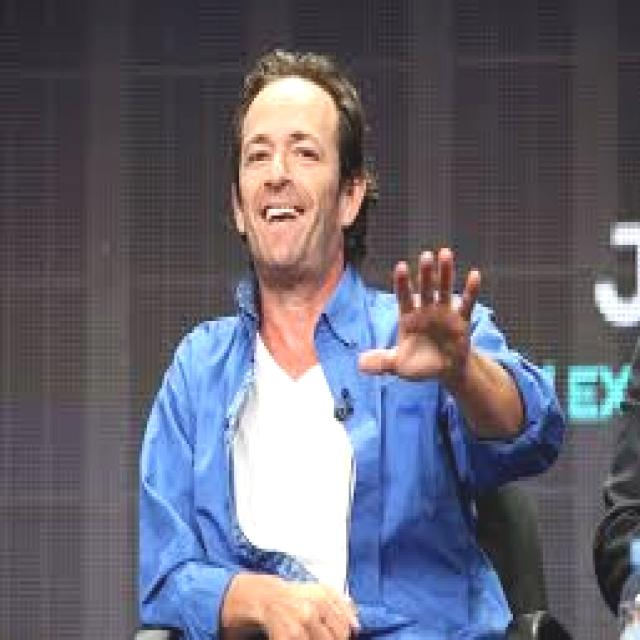normal_face: (236, 51, 366, 282)
